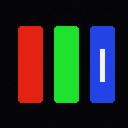4 line_v: (100, 49, 104, 81)
